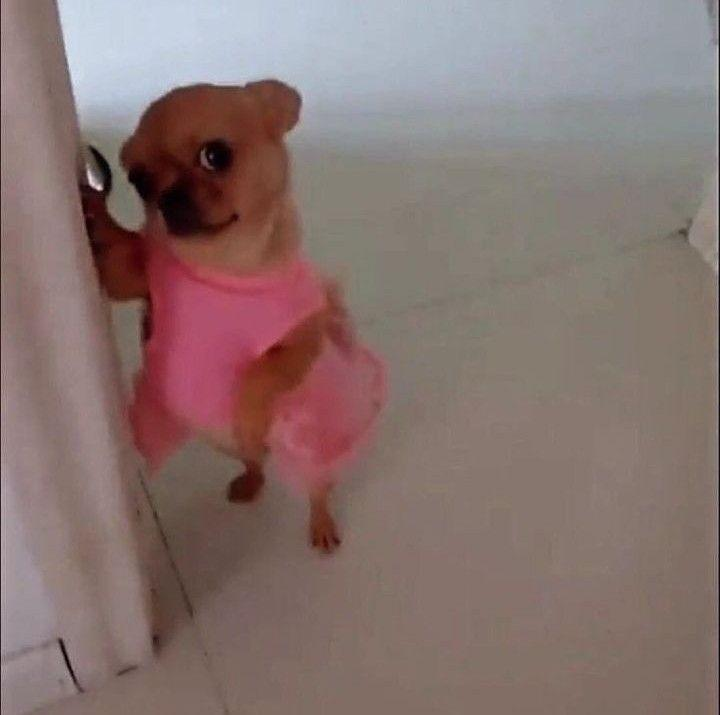adult_dog: (74, 78, 391, 557)
